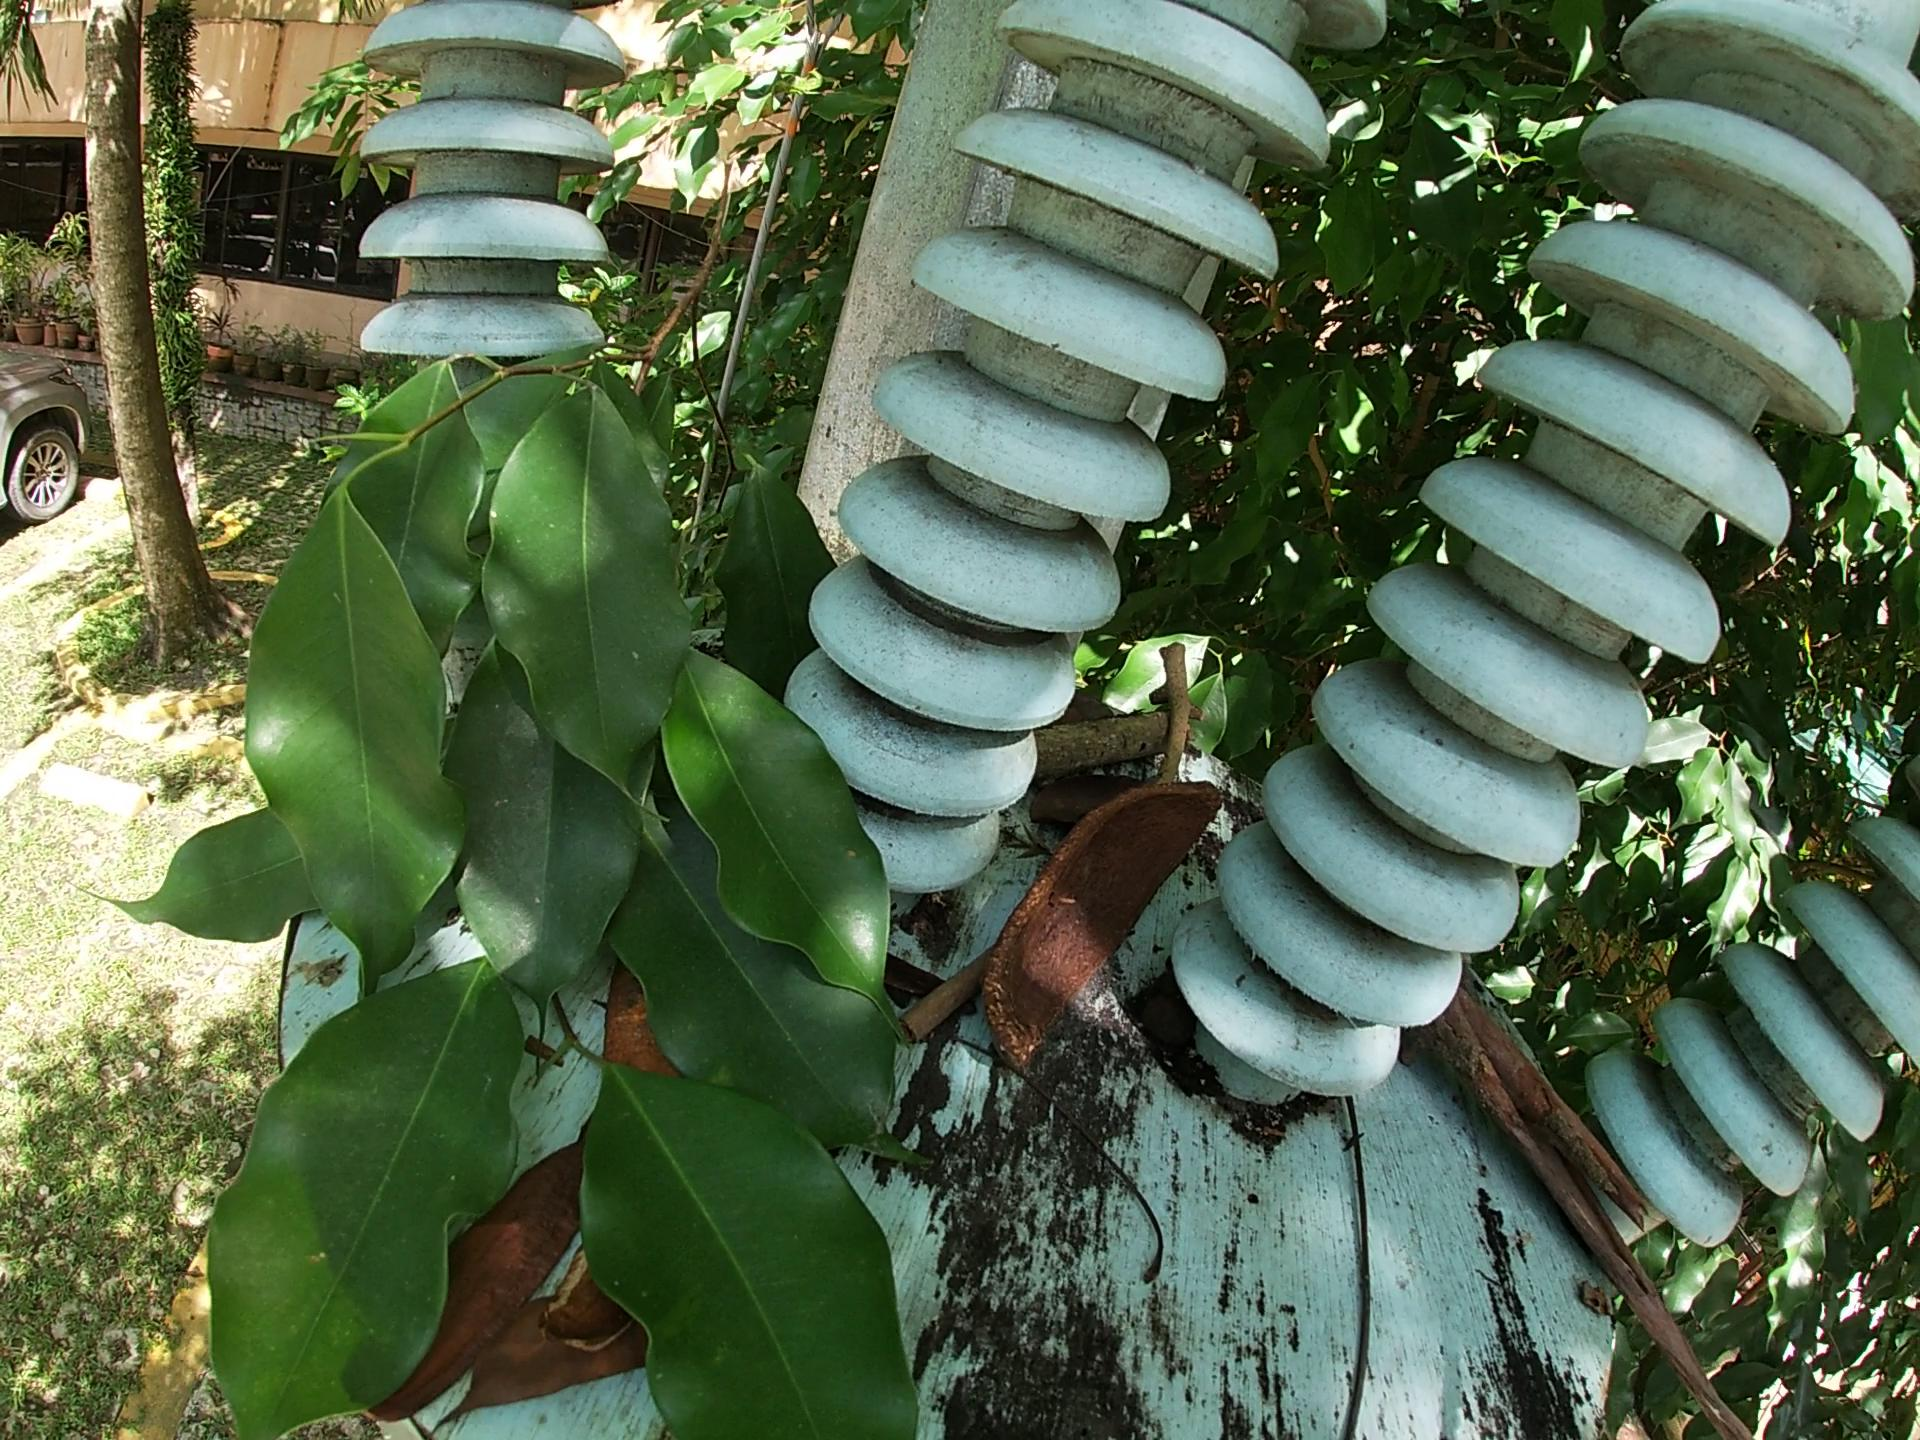branch with leaves: (5, 191, 942, 1438)
leaf: (451, 1293, 652, 1425), (593, 976, 688, 1100)
mahogany fruit: (336, 1130, 606, 1429), (977, 764, 1234, 1072)
tree branch: (1417, 959, 1779, 1438), (952, 1053, 1172, 1289), (1324, 1075, 1382, 1435), (1017, 694, 1197, 781), (903, 939, 986, 1066), (1150, 635, 1185, 788)
